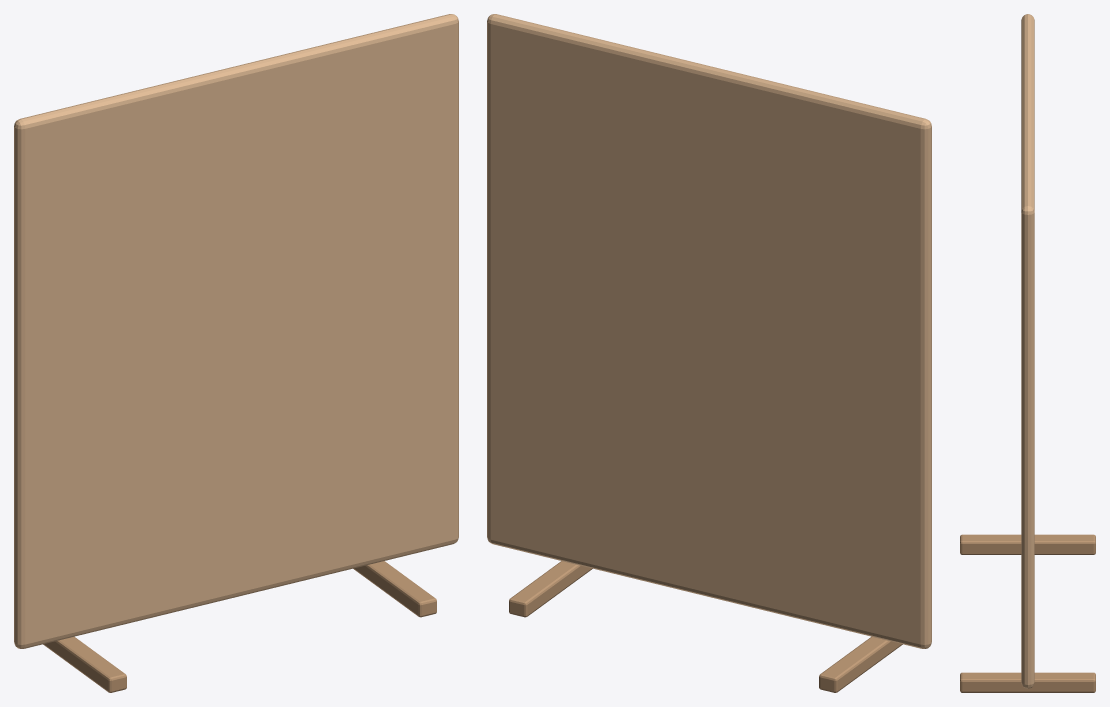
File: partitions___dividers_asset_catalog_37.glb
3 views of the same model, side by side, from view 1: azimuth 30°, elevation 25°; view 2: azimuth 150°, elevation 25°; view 3: azimuth 270°, elevation 25° (orthographic). The views are drawn at different scales.
Visible parts, largest first — view 1: Cube; view 2: Cube; view 3: Cube.
Boxes of the visible parts, <box> form: Cube: <box>14,14,458,692</box>; Cube: <box>487,14,931,692</box>; Cube: <box>960,14,1095,692</box>.
Bounding box in the file's own units: 1.2 × 1.45 × 0.35.
